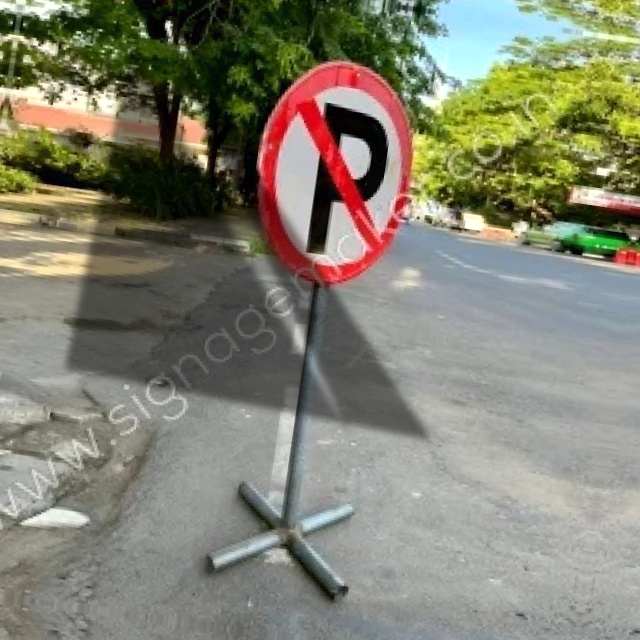No_Parking: (244, 50, 429, 295)
